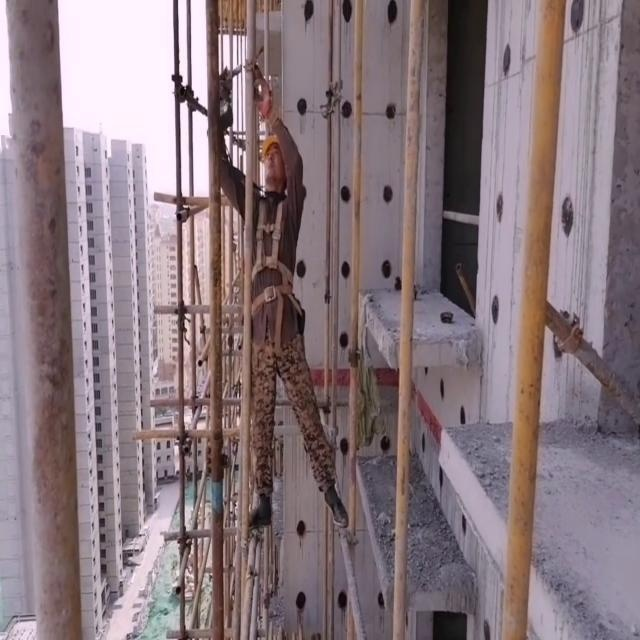Arnes_seguridad: (251, 186, 297, 292)
